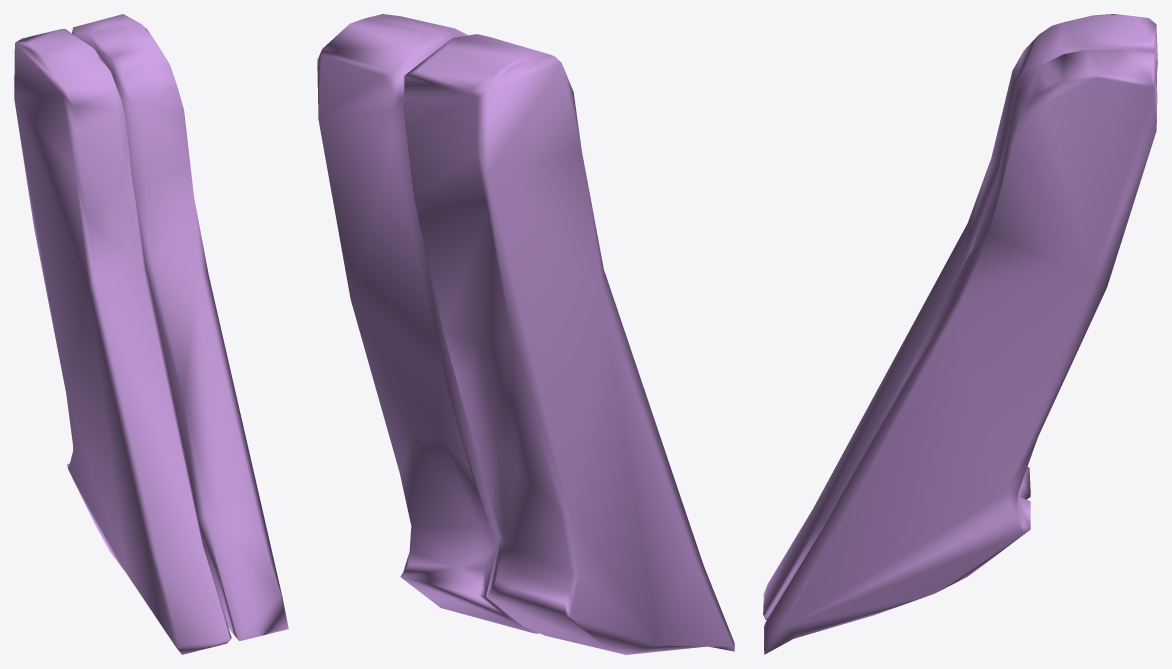
Rendered from nervoso-septal-nuclei.glb.
3 renders of one model, left to right at view 1: azimuth 30°, elevation 25°; view 2: azimuth 150°, elevation 25°; view 3: azimuth 270°, elevation 25°, orthographic. The views are drawn at different scales.
Parts seen in each view (by area): view 1: Septal nuclei; view 2: Septal nuclei; view 3: Septal nuclei.
Part boxes in pixels (x1,y1,x2,y2): Septal nuclei: (14, 14, 288, 654); Septal nuclei: (317, 14, 734, 654); Septal nuclei: (763, 14, 1157, 654).
Bounding box in the file's own units: 0.00273 × 0.0115 × 0.0071.
